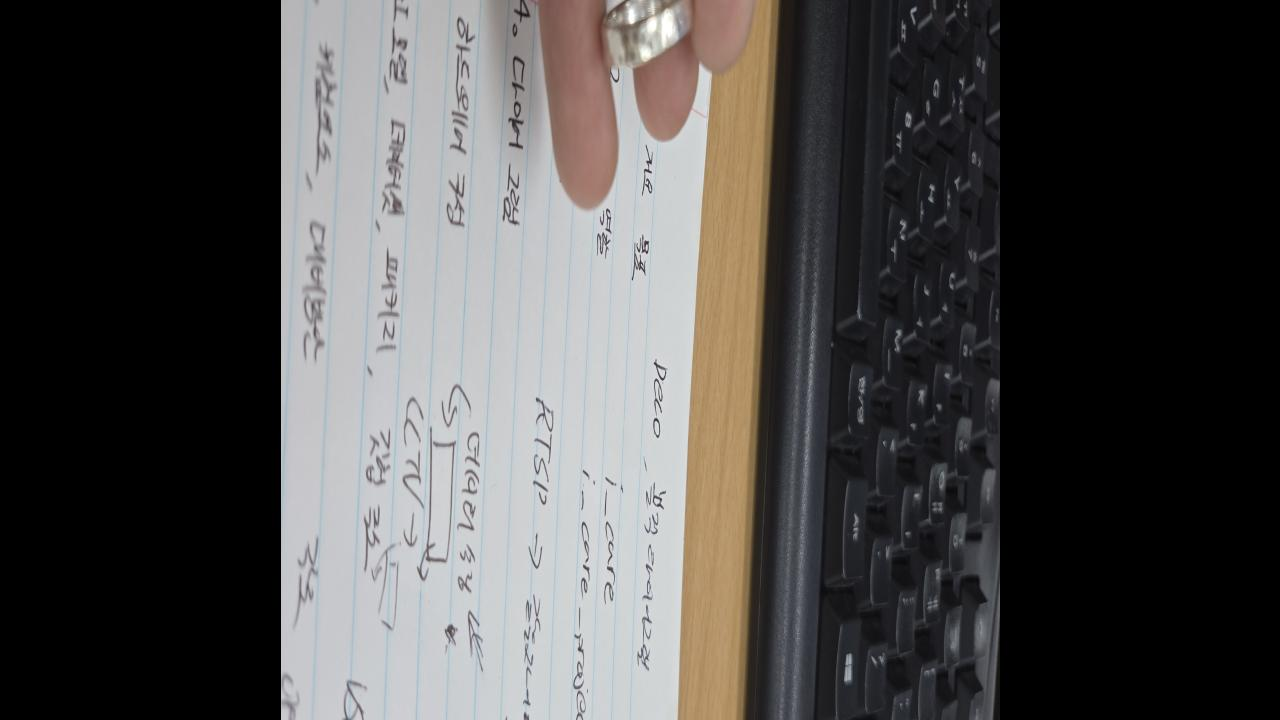ring: (600, 0, 694, 74)
